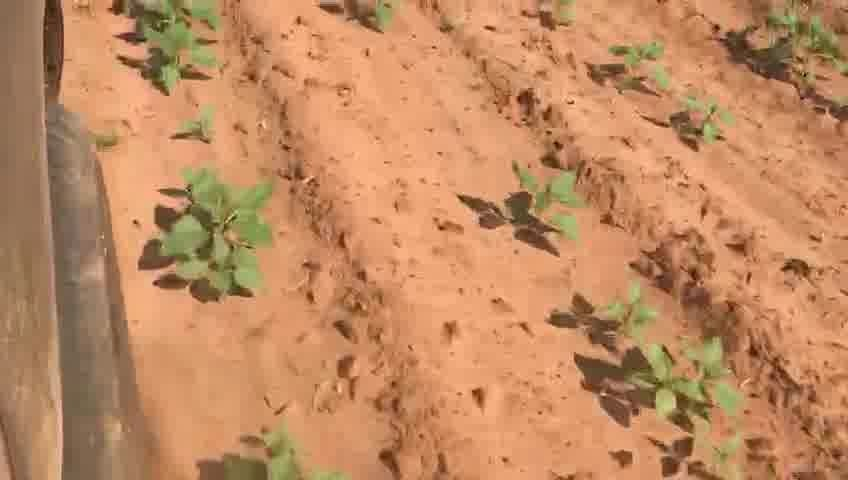sunflower: (147, 171, 277, 298), (627, 339, 751, 426), (489, 162, 588, 248), (117, 19, 224, 95), (210, 424, 356, 479), (573, 280, 654, 347), (678, 96, 739, 151), (686, 425, 747, 479), (612, 41, 673, 95), (176, 101, 223, 147), (345, 4, 404, 37)
